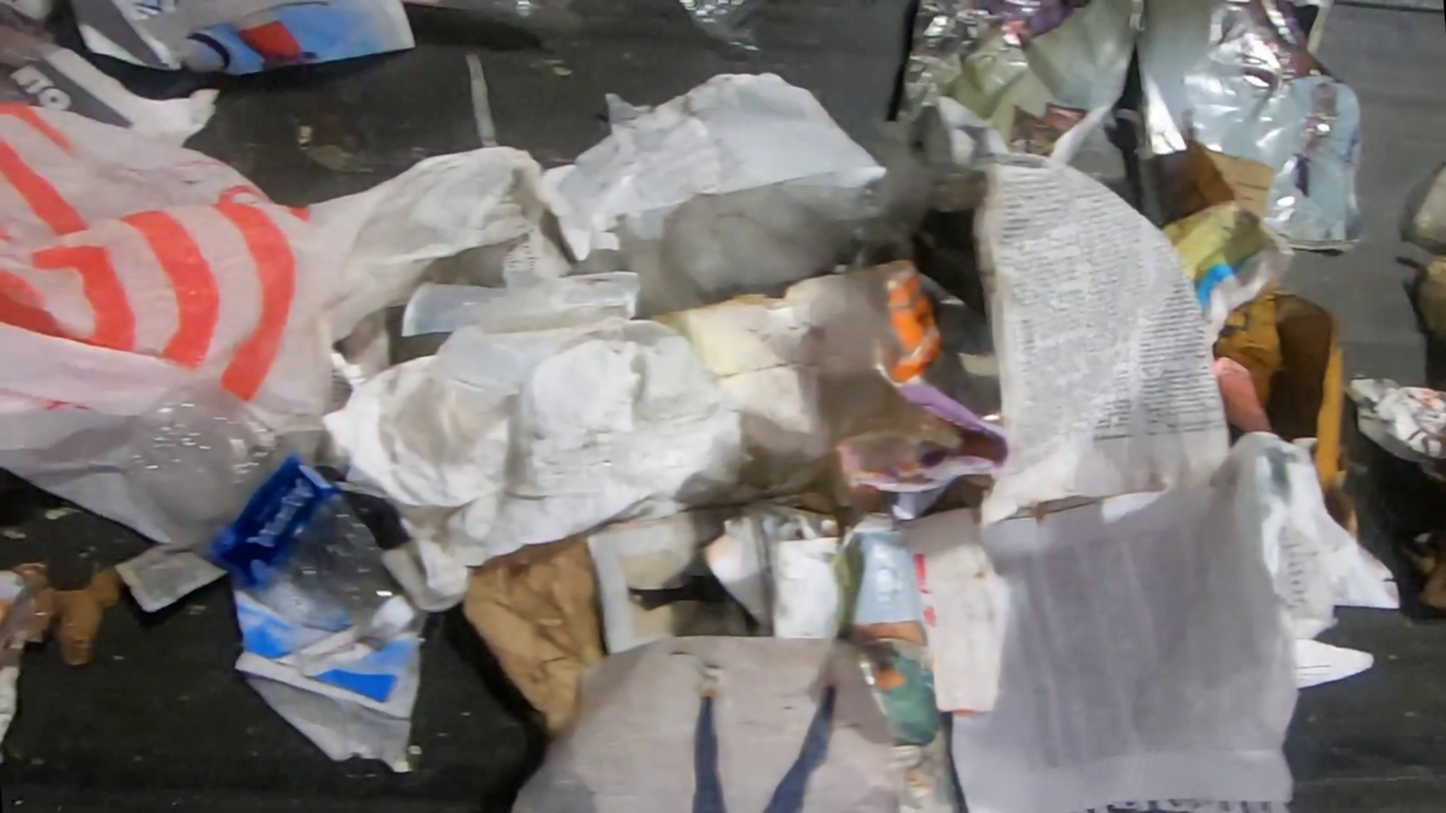cardboard: (645, 246, 970, 505), (1209, 281, 1346, 495)
plastic: (0, 98, 547, 544), (118, 380, 418, 647), (397, 262, 644, 338), (397, 0, 585, 51), (672, 0, 769, 57)
